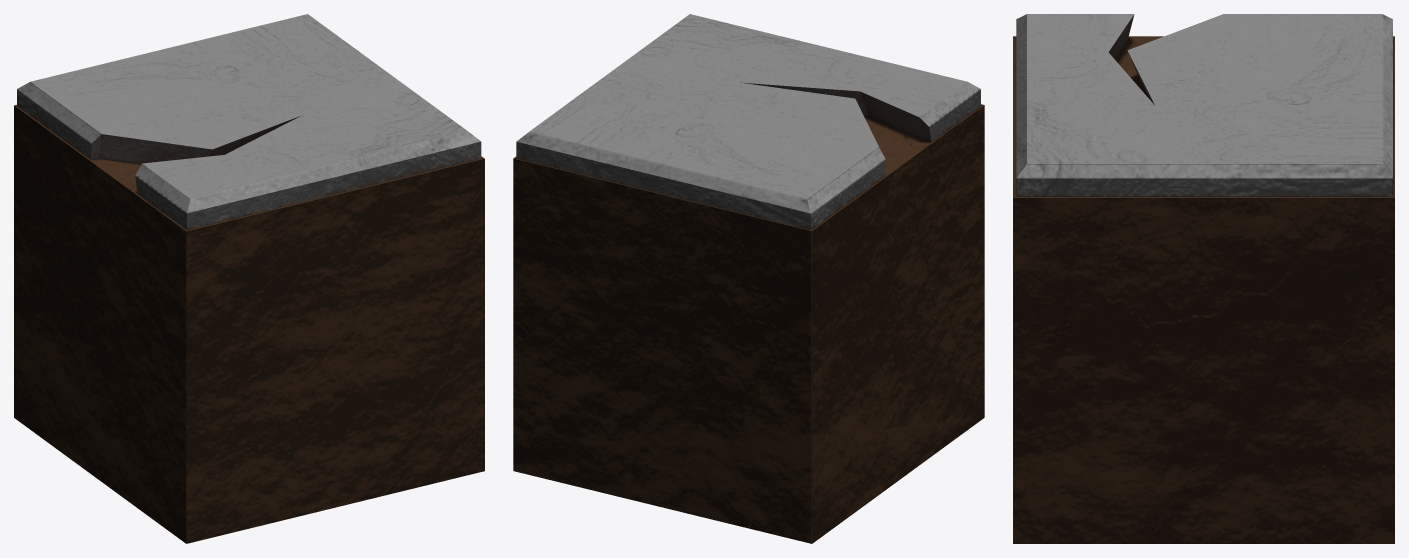
File: tileEjemplo.obj
The picture shows the model from 3 angles, left to right: view 1: azimuth 30°, elevation 25°; view 2: azimuth 150°, elevation 25°; view 3: azimuth 270°, elevation 25°; orthographic projection. The views are drawn at different scales.
Parts seen in each view (by area): view 1: Cube.005_Cube.006, Cube.004_Cube.005; view 2: Cube.005_Cube.006, Cube.004_Cube.005; view 3: Cube.005_Cube.006, Cube.004_Cube.005.
Part boxes in pixels (x1,y1,x2,y2): Cube.005_Cube.006: (14,105,484,543); Cube.004_Cube.005: (17,14,481,229); Cube.005_Cube.006: (513,104,984,543); Cube.004_Cube.005: (516,14,980,229); Cube.005_Cube.006: (1013,36,1394,543); Cube.004_Cube.005: (1016,14,1392,196).
Bounding box in the file's own units: 1 × 1.08 × 1.
2 materials, 2 textured.
